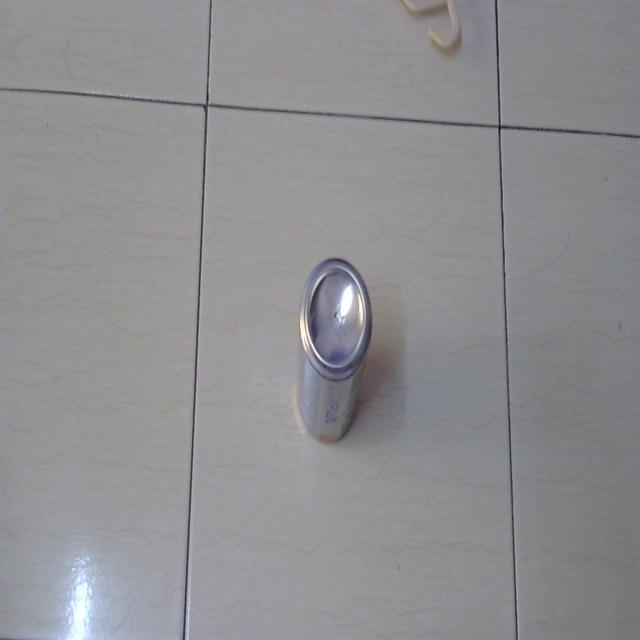metal_standrotation: (294, 246, 376, 456)
